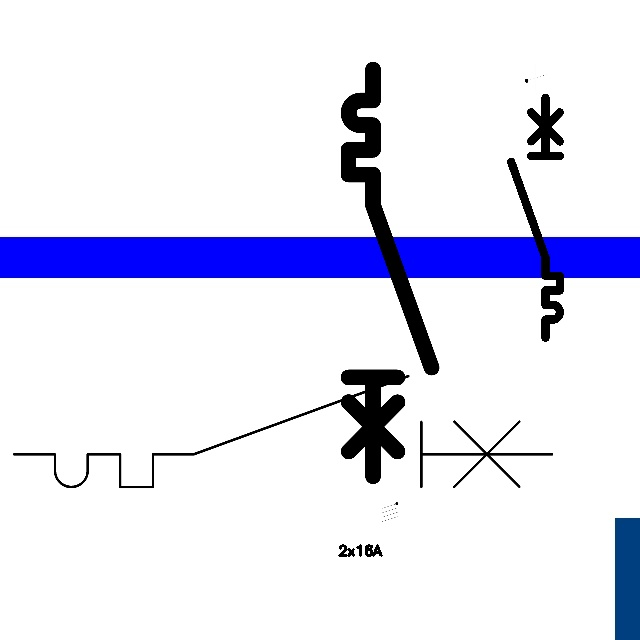interruptor_termomagnetico: (0, 362, 566, 501), (338, 59, 442, 486), (505, 91, 566, 343)
